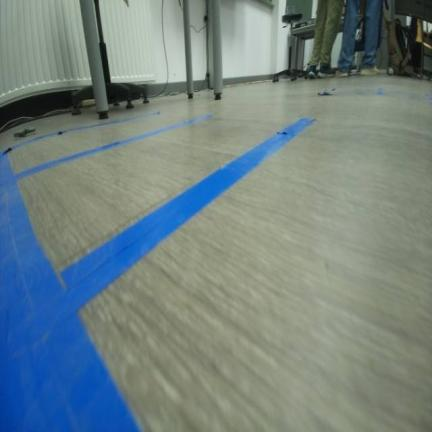place: (0, 116, 431, 431), (0, 110, 319, 335), (0, 108, 215, 184)
